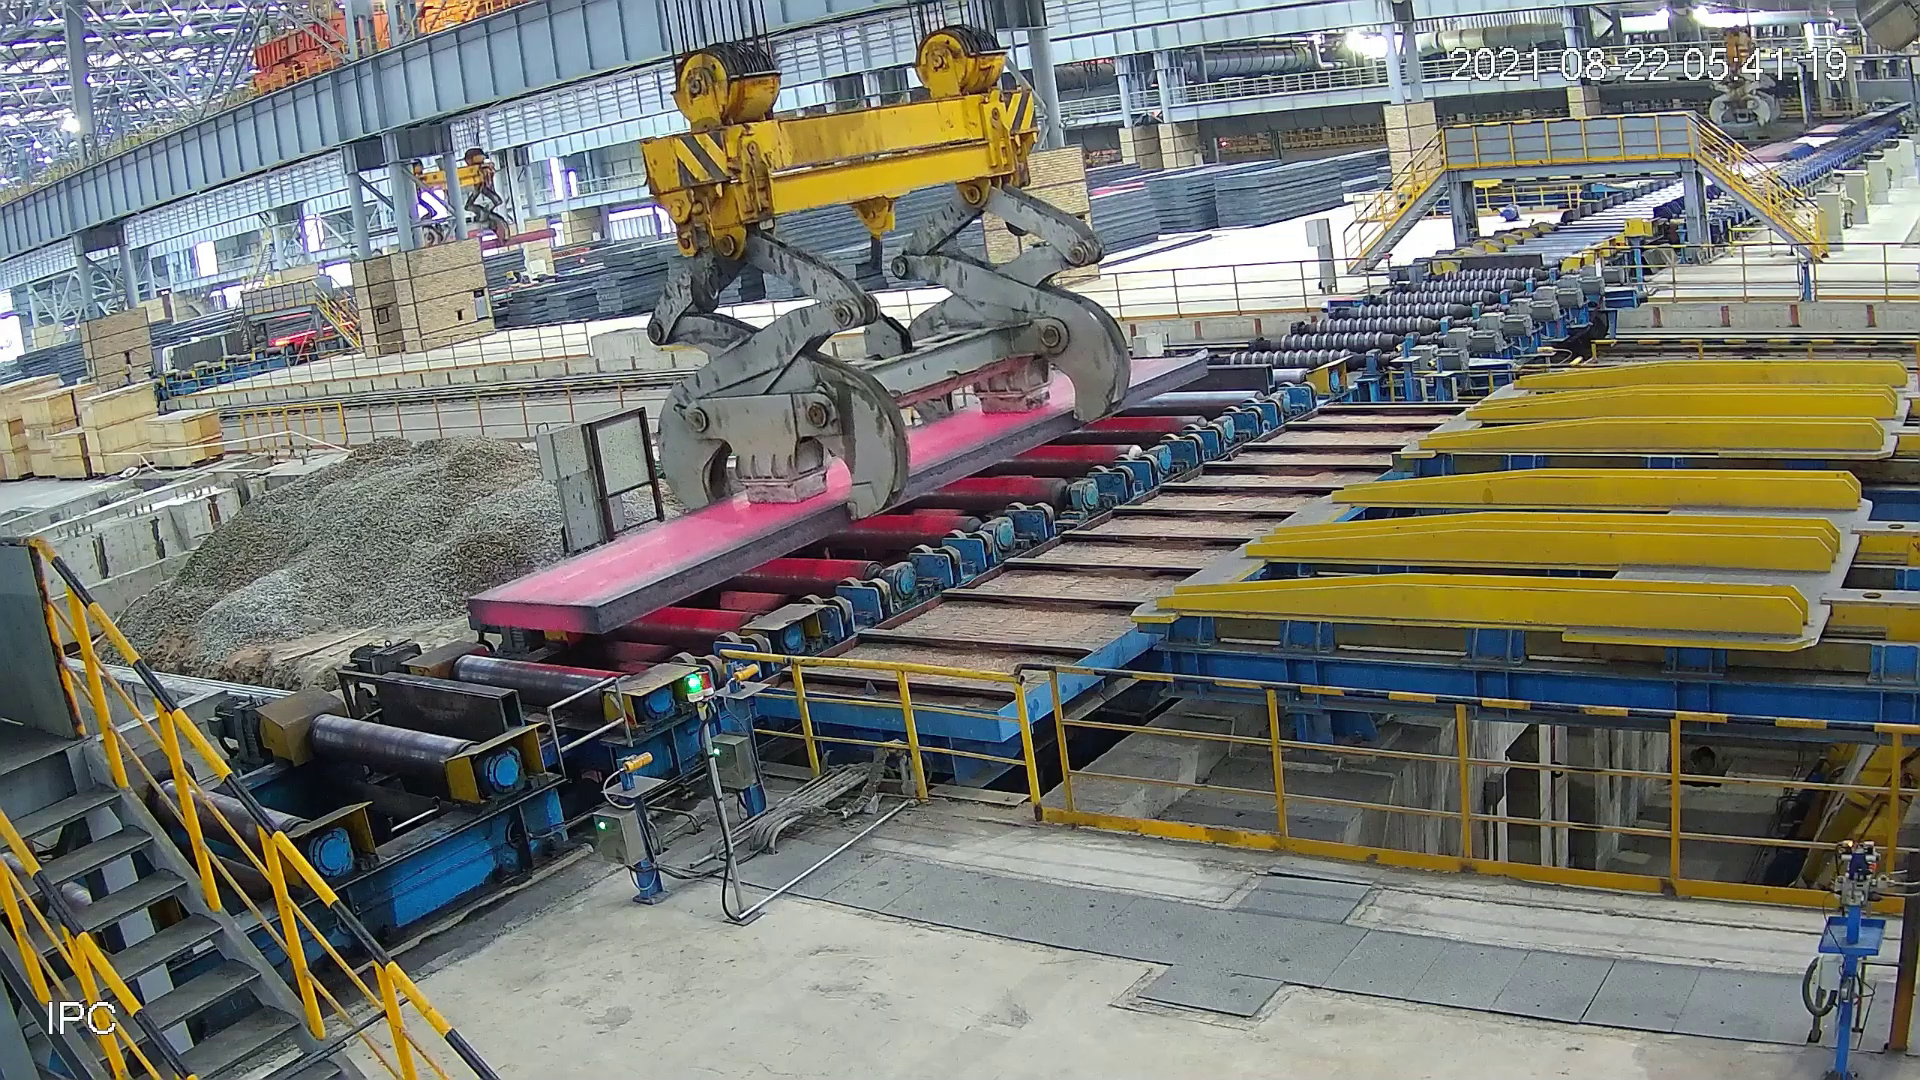craneandslab: (462, 28, 1236, 647), (1696, 22, 1785, 138)
